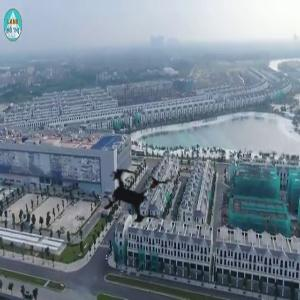drone: (64, 131, 202, 269)
